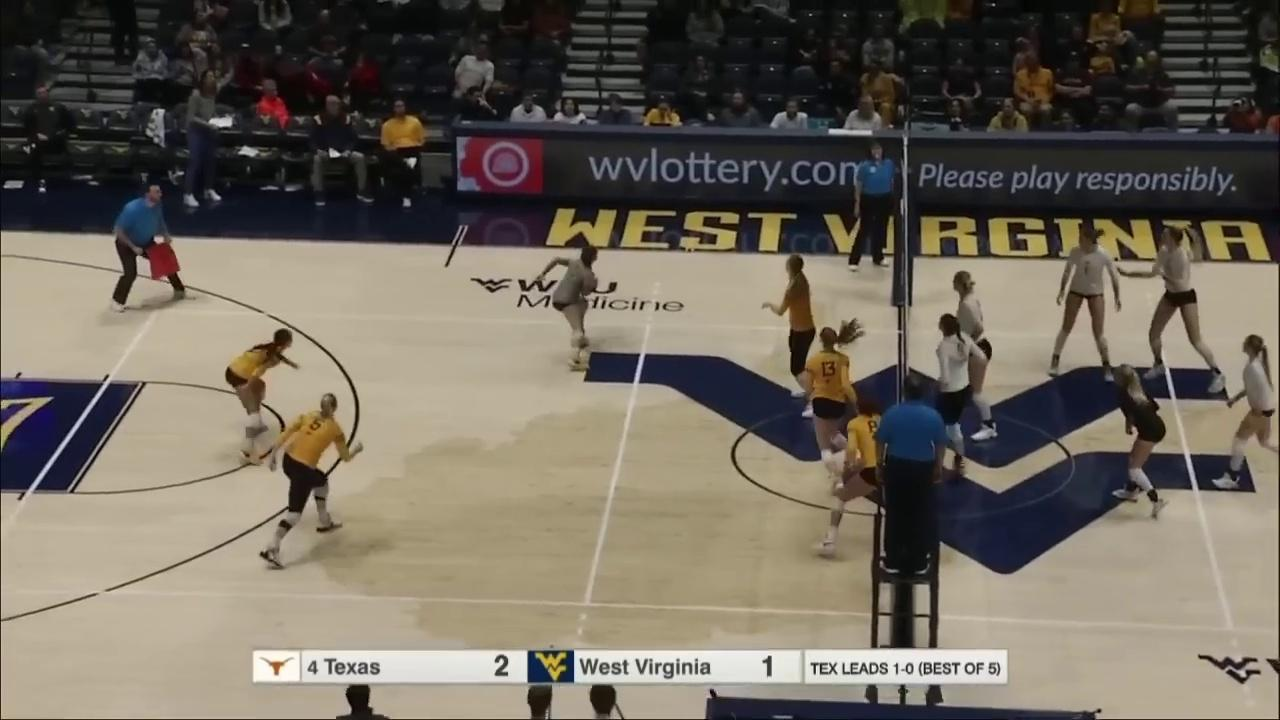player: (265, 388, 367, 569), (1141, 223, 1226, 393), (819, 396, 902, 557), (1047, 225, 1122, 383), (219, 317, 294, 465), (1211, 335, 1280, 493), (532, 240, 612, 375), (1105, 365, 1170, 520), (801, 323, 861, 490), (773, 255, 828, 422), (935, 313, 985, 490), (948, 272, 998, 439)
refree: (875, 376, 948, 578), (110, 182, 198, 310), (844, 143, 894, 271)
